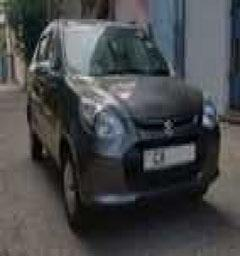car: (18, 13, 228, 242)
